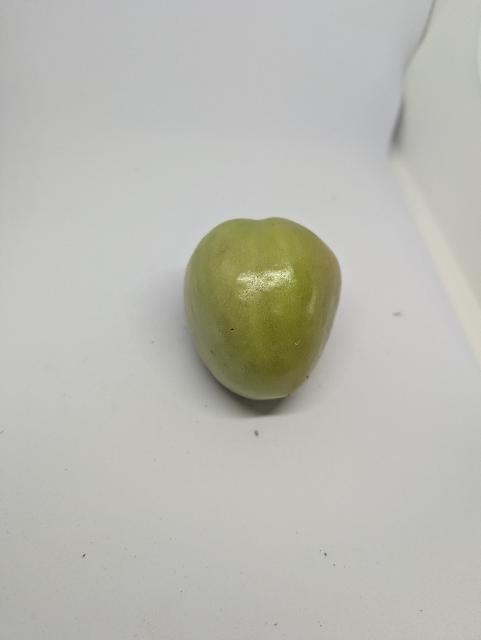green: (183, 216, 345, 403)
